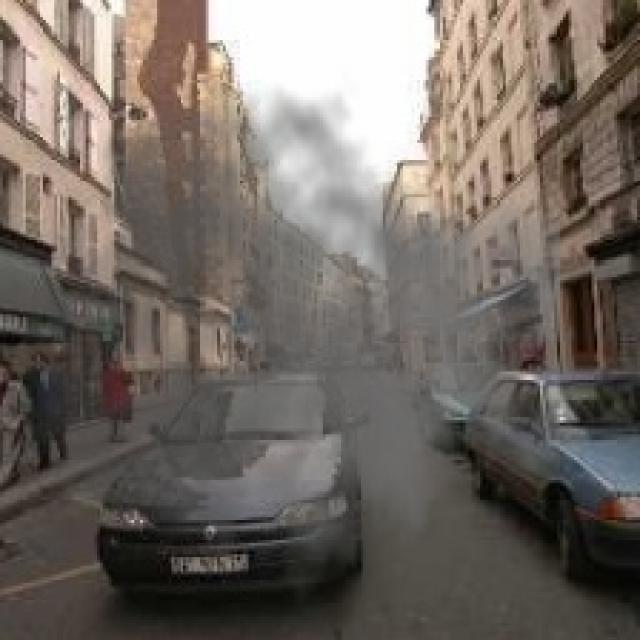Smoke: (17, 66, 560, 632)
